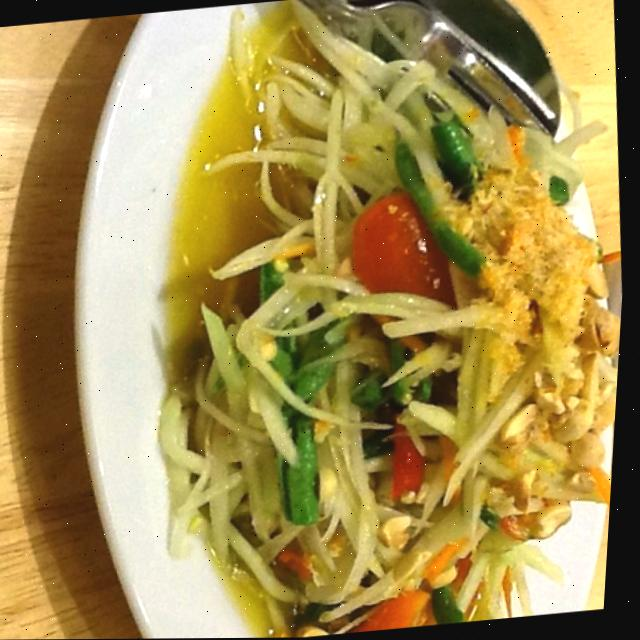蔬菜料理: (42, 0, 640, 640)
